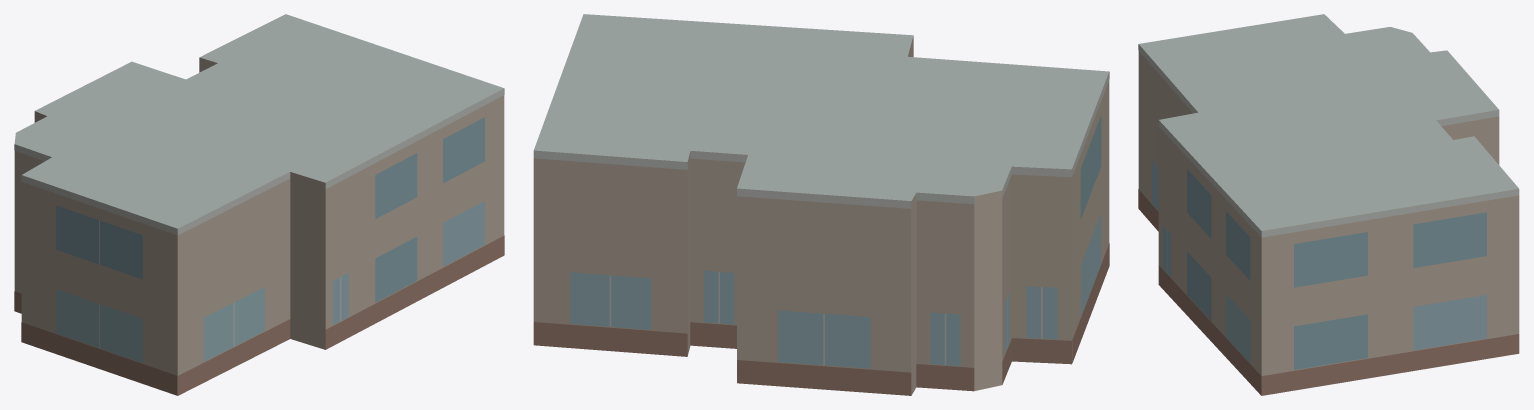
File: survey-upis-32852103.glb
The picture shows the model from 3 angles, left to right: view 1: azimuth 30°, elevation 25°; view 2: azimuth 150°, elevation 25°; view 3: azimuth 270°, elevation 25°; orthographic projection. The views are drawn at different scales.
Parts seen in each view (by area): view 1: survey-upis-32852103.tmp; view 2: survey-upis-32852103.tmp; view 3: survey-upis-32852103.tmp.
Boxes of the visible parts, x1=… form: survey-upis-32852103.tmp: x1=14, y1=14, x2=504, y2=395; survey-upis-32852103.tmp: x1=533, y1=14, x2=1109, y2=395; survey-upis-32852103.tmp: x1=1138, y1=14, x2=1519, y2=395.
Bounding box in the file's own units: 17.24 × 6.1 × 12.78.
